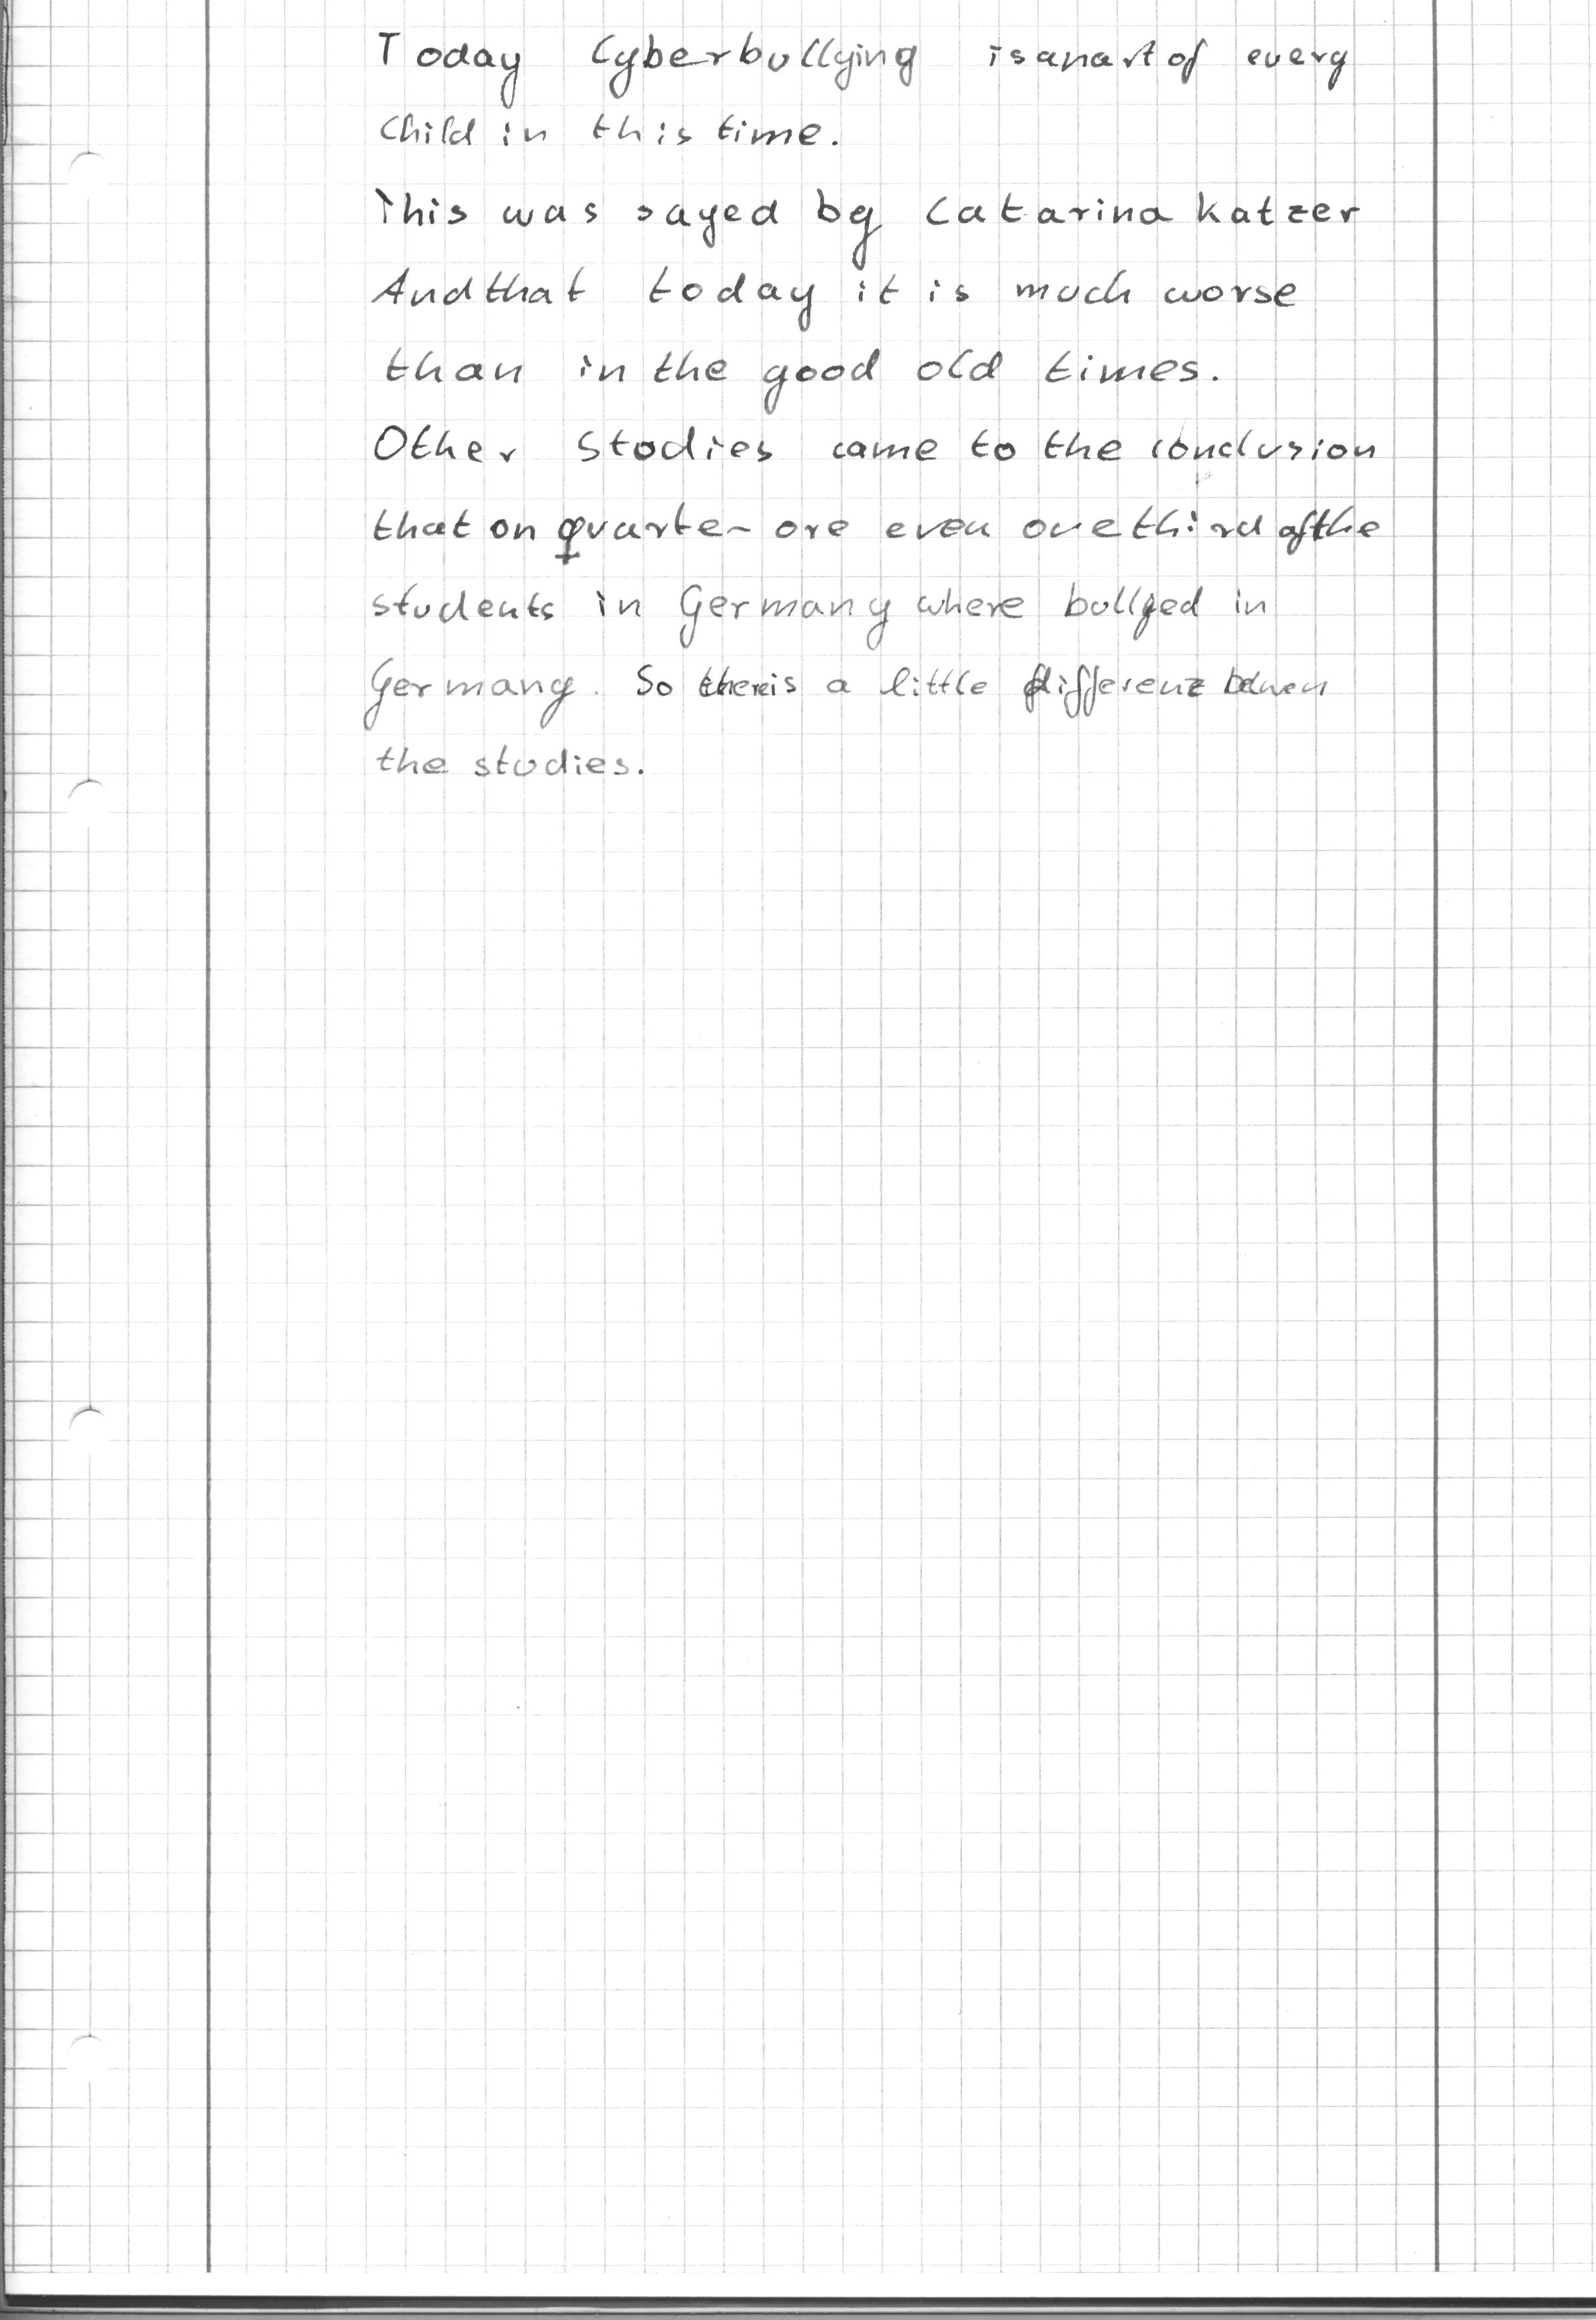word: (353, 178, 1392, 794), (363, 19, 1366, 160)
